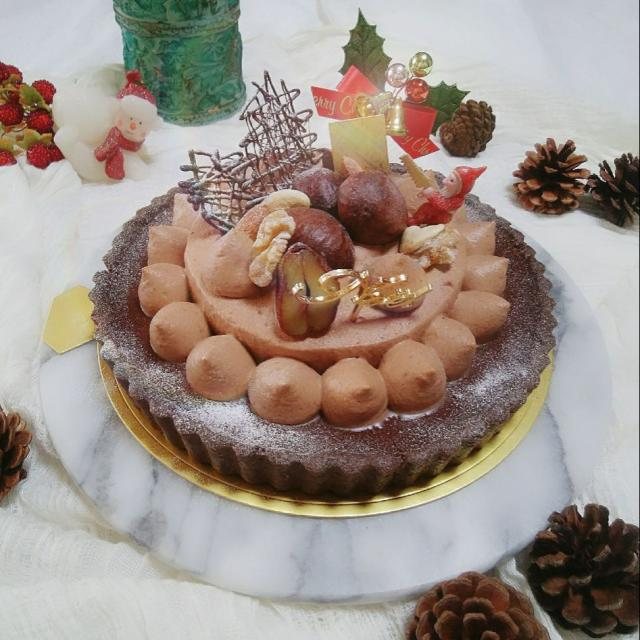chocolatecake: (88, 152, 558, 498)
